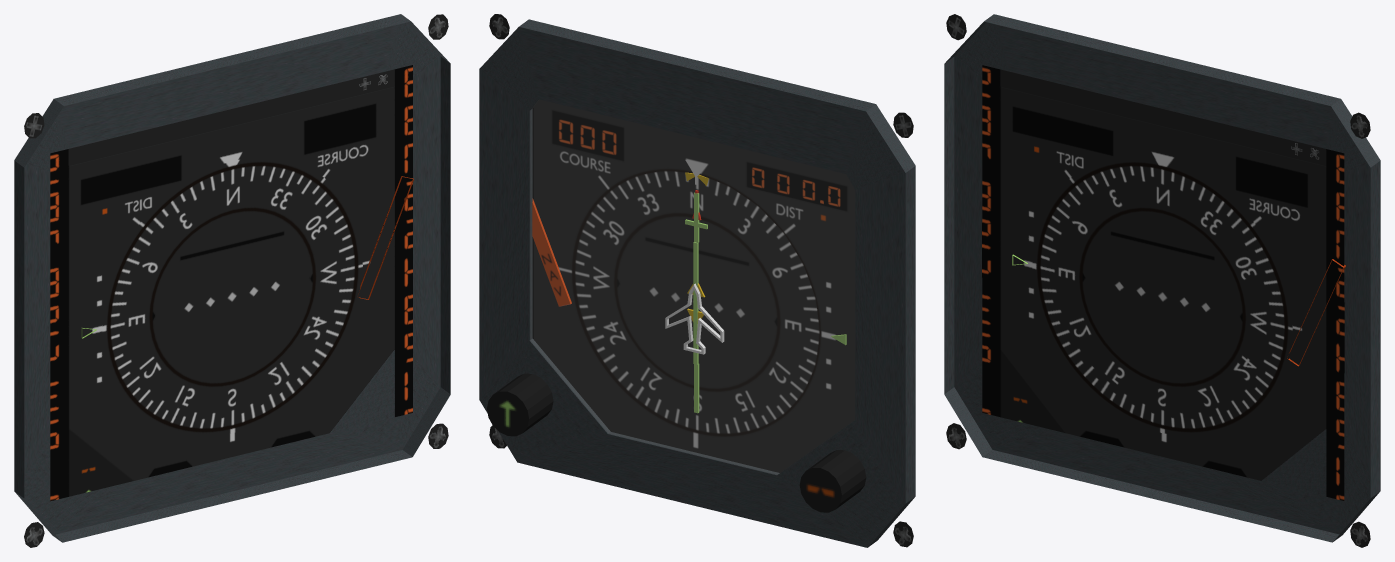
File: hsi.obj
The picture shows the model from 3 angles, left to right: view 1: azimuth 30°, elevation 25°; view 2: azimuth 150°, elevation 25°; view 3: azimuth 330°, elevation 25°; orthographic projection.
Parts seen in each view (by area): view 1: HSI.face, HSI, HSI.card, HSI.crsneedle; view 2: HSI, vitre, HSI.face, HSI.card, HSI.crsneedle, HSI.crsknob, HSI.hdgknob, navflag, Plane, HSI.crs1, HSI.crs10, HSI.crs100 (+1 smaller); view 3: HSI.face, HSI, HSI.card, HSI.crsneedle.
Part boxes in pixels (box(x1,y1,x2,y2)): HSI.face: box(50, 65, 412, 501); HSI: box(14, 14, 450, 547); HSI.card: box(102, 157, 362, 436); HSI.crsneedle: box(155, 214, 309, 379); HSI: box(479, 14, 915, 547); vitre: box(531, 100, 854, 473); HSI.face: box(532, 99, 855, 472); HSI.card: box(573, 170, 819, 435); HSI.crsneedle: box(615, 192, 779, 413); HSI.crsknob: box(487, 373, 553, 436); HSI.hdgknob: box(799, 450, 866, 512); navflag: box(532, 198, 571, 306); Plane: box(665, 283, 724, 354); HSI.crs1: box(598, 126, 620, 158); HSI.crs10: box(577, 121, 598, 153); HSI.crs100: box(555, 116, 576, 148); HSI.face: box(982, 65, 1344, 500); HSI: box(944, 14, 1380, 547); HSI.card: box(1032, 157, 1292, 436); HSI.crsneedle: box(1085, 214, 1239, 379).
Bounding box in the file's own units: 0.1274 × 0.1245 × 0.0184.
Materials: 2 (1 with a texture image).
